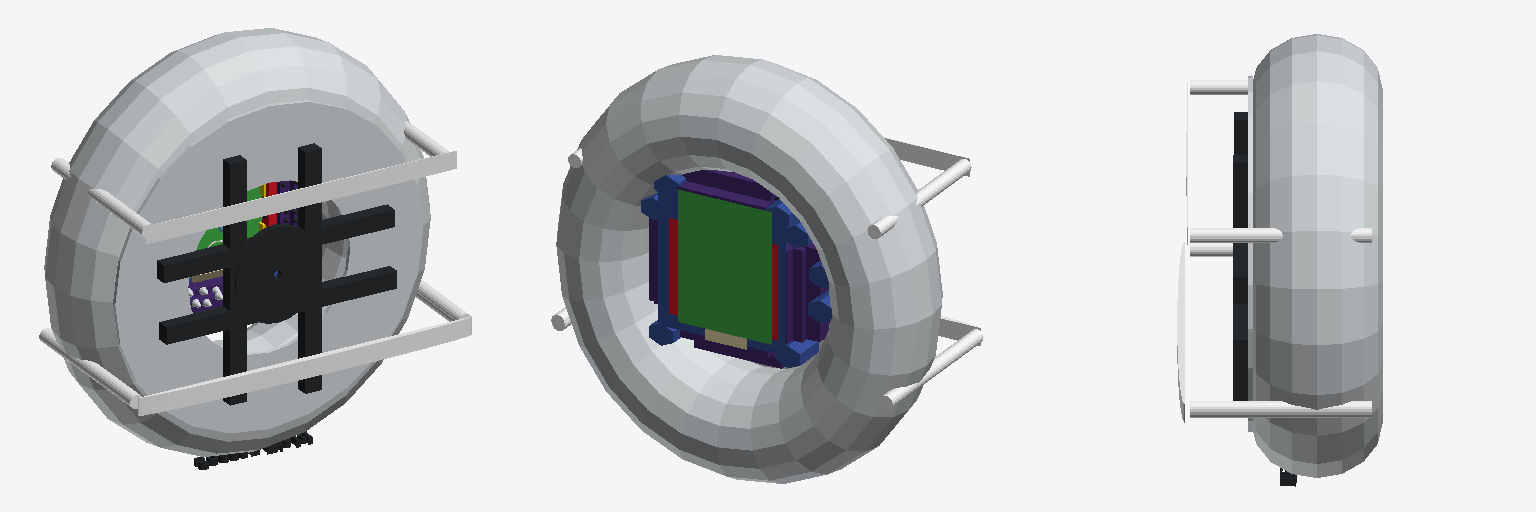
File: tinker.obj
The picture shows the model from 3 angles: view 1: azimuth 30°, elevation 25°; view 2: azimuth 150°, elevation 25°; view 3: azimuth 270°, elevation 25°; orthographic projection.
Parts seen in each view (by area): view 1: obj_0; view 2: obj_0; view 3: obj_0.
Boxes of the visible parts, box(x1,y1,x2,y2) form: obj_0: box(39, 28, 471, 469); obj_0: box(551, 55, 983, 483); obj_0: box(1177, 34, 1382, 486).
Size of the model in its own units: 550 by 587 by 267.